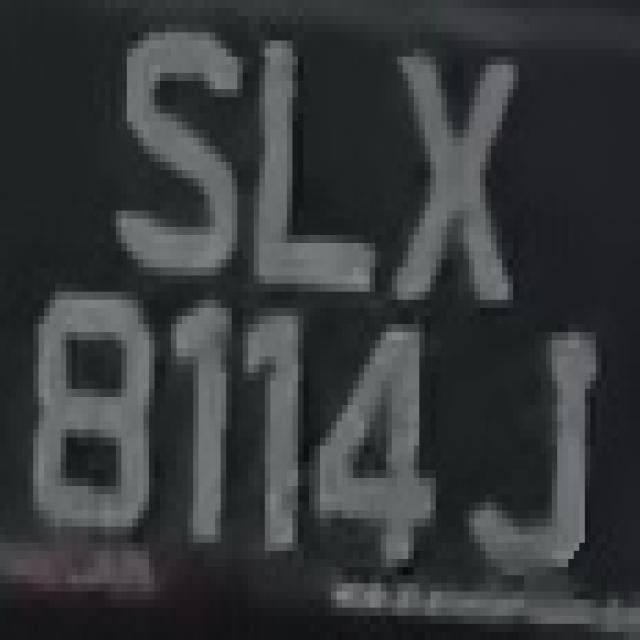1: (220, 276, 314, 575), (143, 300, 232, 559)
4: (292, 276, 447, 592)
8: (28, 243, 154, 575)
J: (463, 300, 607, 583)
L: (232, 16, 392, 324)
S: (100, 16, 238, 300)
X: (375, 8, 530, 324)
